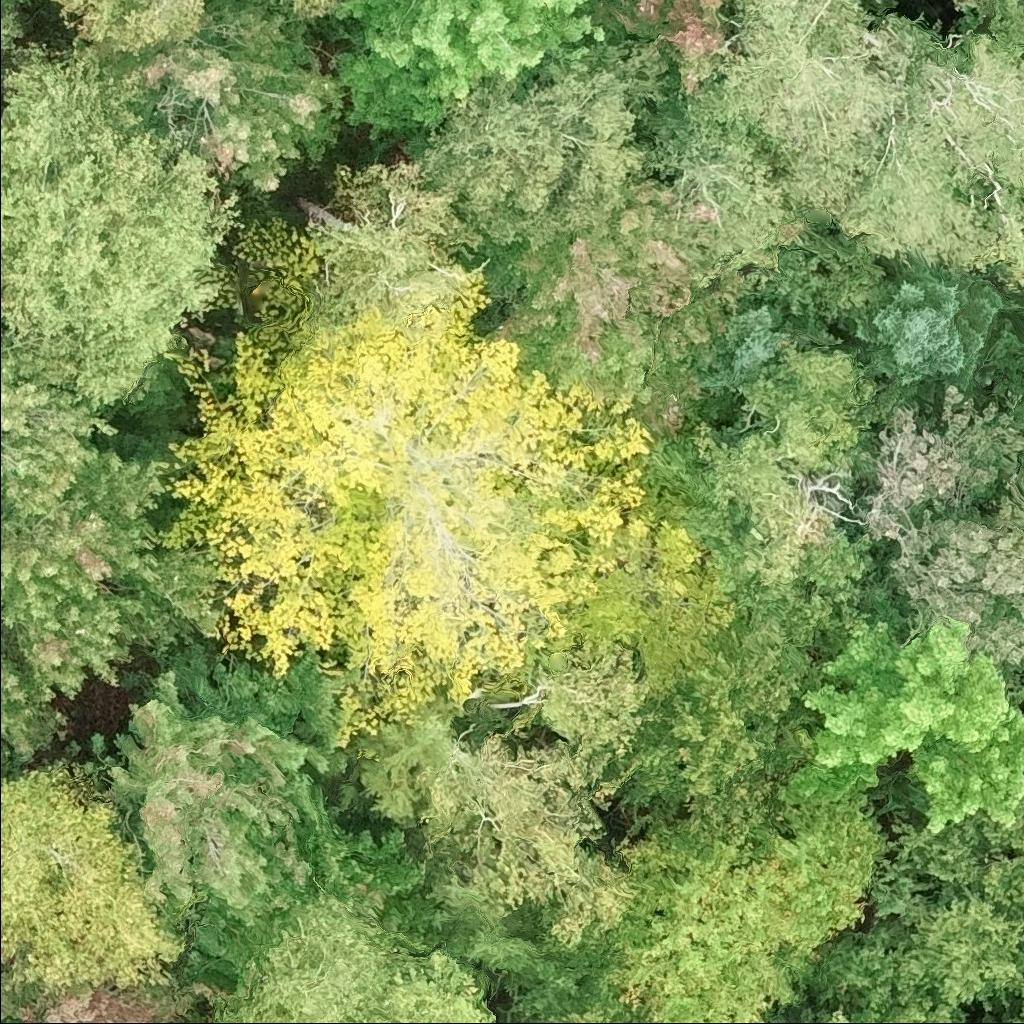crown: (158, 256, 743, 749), (634, 0, 1023, 286), (0, 40, 246, 414), (404, 37, 670, 301), (598, 788, 894, 1023), (487, 178, 745, 432), (94, 669, 332, 934), (775, 580, 1023, 834), (679, 341, 876, 647), (416, 730, 648, 951), (112, 0, 347, 193), (0, 451, 174, 711), (814, 800, 1023, 1011), (604, 610, 817, 817), (0, 765, 185, 998), (312, 0, 612, 141), (207, 882, 493, 1023), (850, 382, 1023, 553), (886, 506, 1023, 698), (313, 161, 479, 317), (855, 261, 1020, 414), (0, 325, 115, 515), (589, 0, 736, 102), (536, 647, 663, 761), (354, 696, 464, 826), (694, 295, 797, 415), (491, 942, 640, 1023), (51, 0, 204, 61), (0, 644, 57, 776), (14, 987, 184, 1023), (799, 992, 971, 1023), (990, 338, 1023, 400), (274, 0, 345, 27), (995, 469, 1023, 537), (0, 0, 27, 66), (0, 449, 33, 499), (951, 0, 993, 31), (1017, 972, 1023, 1008), (1016, 402, 1023, 429), (2, 1017, 25, 1023), (17, 0, 34, 5), (1007, 1018, 1023, 1023)
